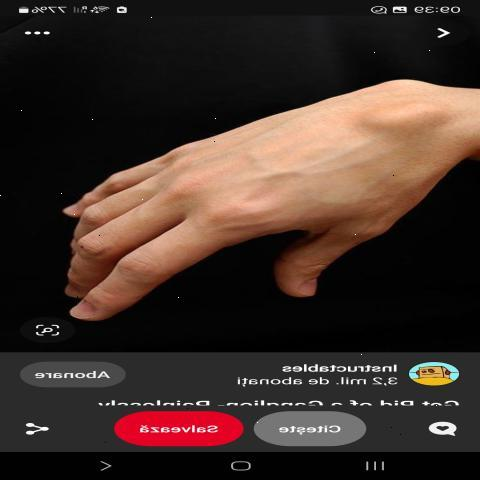Hands: (44, 49, 470, 332)
